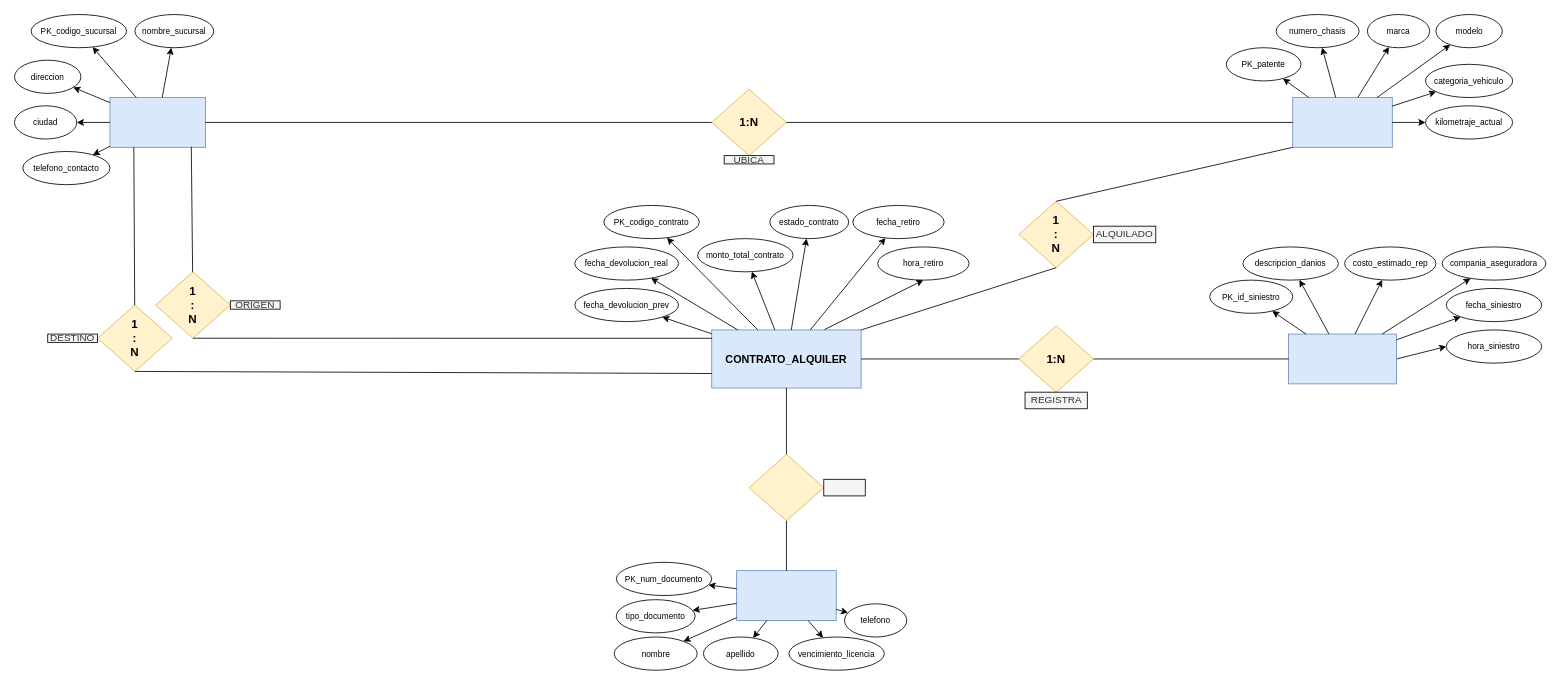
Some shapes in this 1560 by 685 pixel diagram are drawn without their labels. The centre of each missing label's shape, as x and y in pixels:
"CLIENTE" belongs at (x=786, y=595).
"FIRMA" belongs at (x=844, y=487).
"N : 1" belongs at (x=786, y=487).
"SINIESTRO" belongs at (x=1342, y=358).
"SUCURSAL" belongs at (x=157, y=122).
"VEHICULO" belongs at (x=1342, y=122).
